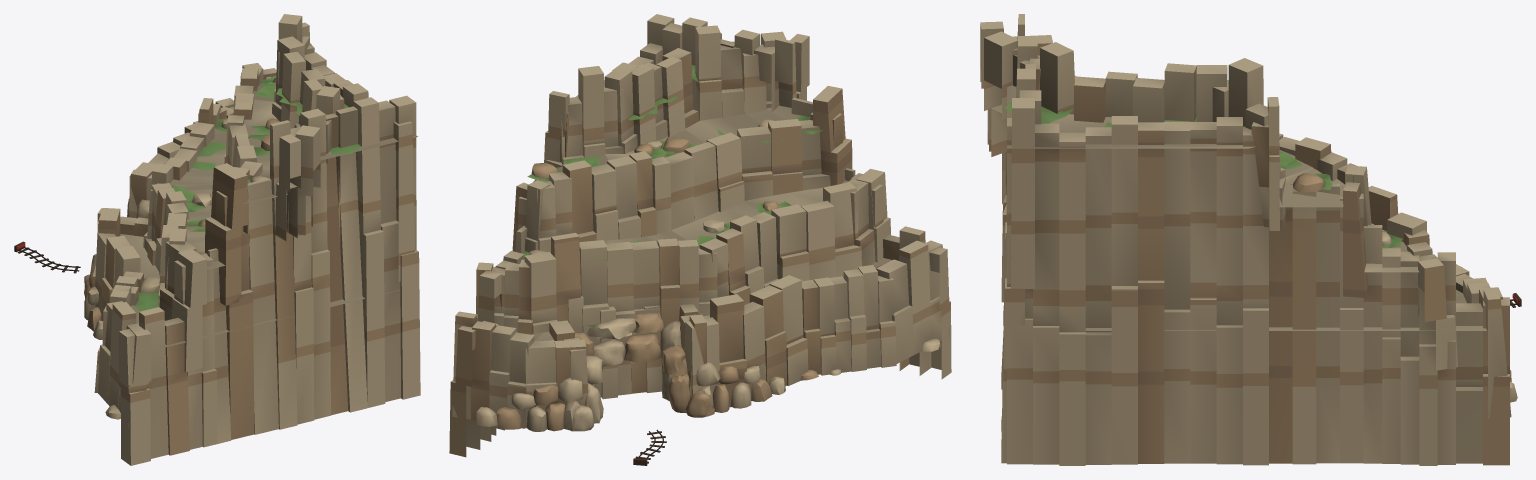
File: pav_dungeon_cliff.glb
The picture shows the model from 3 angles, left to right: view 1: azimuth 30°, elevation 25°; view 2: azimuth 150°, elevation 25°; view 3: azimuth 270°, elevation 25°; orthographic projection. The views are drawn at different scales.
Parts seen in each view (by area): view 1: static_dungeon_cliff; view 2: static_dungeon_cliff; view 3: static_dungeon_cliff.
Part boxes in pixels (x1,y1,x2,y2): static_dungeon_cliff: (14, 14, 420, 465); static_dungeon_cliff: (449, 14, 951, 465); static_dungeon_cliff: (980, 14, 1521, 465).
Size of the model in its own units: 25.19 by 24.58 by 31.75.
